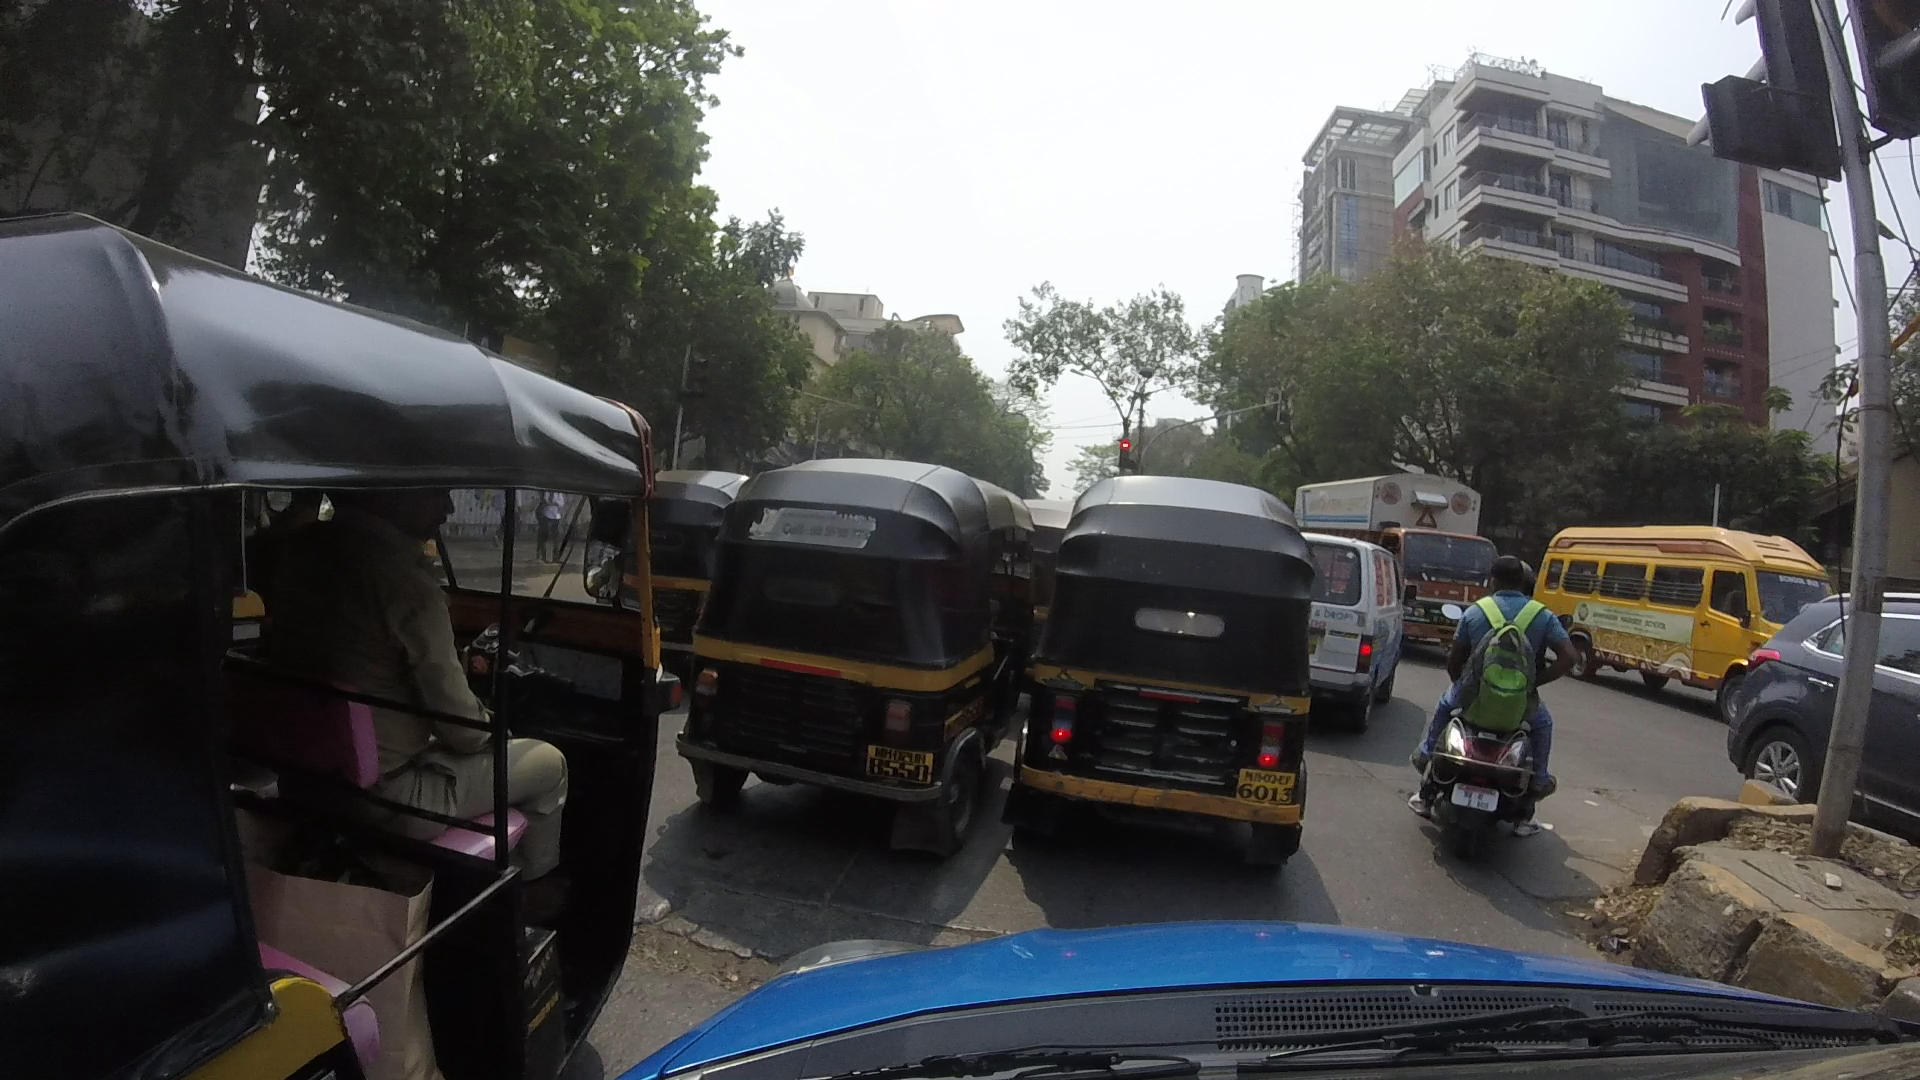bike/scooter: (1422, 542, 1577, 855)
bus: (1534, 506, 1811, 690)
car: (1716, 578, 1920, 804), (1307, 506, 1422, 707)
rickshaw: (4, 222, 637, 1080), (1025, 451, 1321, 869), (700, 462, 994, 818), (595, 442, 765, 704)
truck: (1294, 473, 1514, 647)
